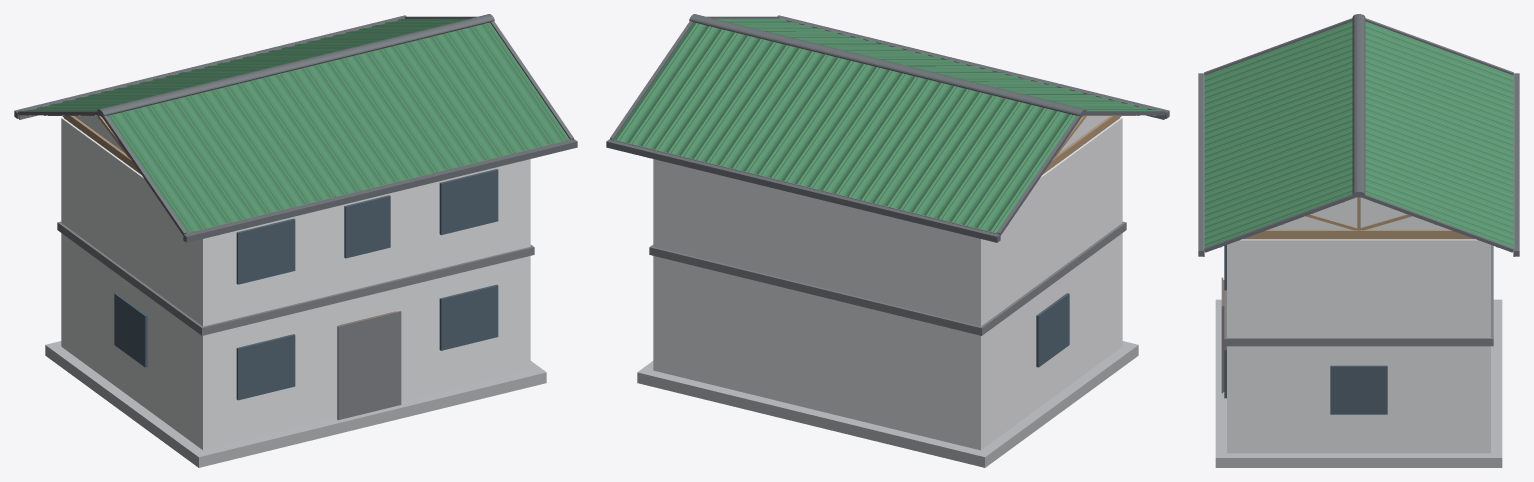
Rendered from Mega_Twin_Rib_Two_Storey_8x6.glb.
3 renders of one model, left to right at view 1: azimuth 30°, elevation 25°; view 2: azimuth 150°, elevation 25°; view 3: azimuth 270°, elevation 25°, orthographic. The views are drawn at different scales.
Visible parts, largest first — view 1: GroundFloor_Walls, Foundation, Door_Frame, RoofSheet_04, RoofSheet_08, RoofSheet_05, RoofSheet_09, RoofSheet_02, RoofSheet_06, RoofSheet_07, RoofSheet_03, RoofSheet_10 (+25 smaller); view 2: GroundFloor_Walls, Foundation, RoofSheet_14, RoofSheet_18, RoofSheet_15, RoofSheet_19, RoofSheet_12, RoofSheet_16, RoofSheet_17, RoofSheet_13, RoofSheet_20, RoofSheet_11 (+19 smaller); view 3: GroundFloor_Walls, Foundation, Window_Side_Right, SecondFloor_BandTrim, Gable_Wall_Right, RoofSheet_02, RoofSheet_05, RoofSheet_12, RoofSheet_15, RoofSheet_03, RoofSheet_04, RoofSheet_06 (+25 smaller).
Boxes of the visible parts, x1,y1,x2,y2 form: GroundFloor_Walls: (61,117,530,450); Foundation: (45,341,546,467); Door_Frame: (337,311,401,420); RoofSheet_04: (221,79,339,204); RoofSheet_08: (376,41,493,167); RoofSheet_05: (260,69,377,195); RoofSheet_09: (414,31,532,157); RoofSheet_02: (144,98,261,223); RoofSheet_06: (298,60,416,186); RoofSheet_07: (337,50,455,176); RoofSheet_03: (182,88,300,214); RoofSheet_10: (453,22,569,148); GroundFloor_Walls: (653,117,1122,450); Foundation: (637,341,1138,467); RoofSheet_14: (844,79,962,204); RoofSheet_18: (690,41,807,167); RoofSheet_15: (806,69,923,195); RoofSheet_19: (651,31,769,157); RoofSheet_12: (922,98,1039,223); RoofSheet_16: (767,60,885,186); RoofSheet_17: (728,50,846,176); RoofSheet_13: (883,88,1001,214); RoofSheet_20: (614,22,730,148); RoofSheet_11: (961,107,1075,232); GroundFloor_Walls: (1227,239,1490,453); Foundation: (1215,299,1502,467); Window_Side_Right: (1330,365,1387,414); SecondFloor_BandTrim: (1224,245,1493,346); Gable_Wall_Right: (1269,197,1448,229); RoofSheet_02: (1204,38,1352,109); RoofSheet_05: (1204,91,1352,162); RoofSheet_12: (1365,38,1513,109); RoofSheet_15: (1365,91,1513,162); RoofSheet_03: (1204,55,1352,126); RoofSheet_04: (1204,73,1352,144); RoofSheet_06: (1204,108,1352,179).
Size of the model in its own units: 9.55 by 7.16 by 7.3.
